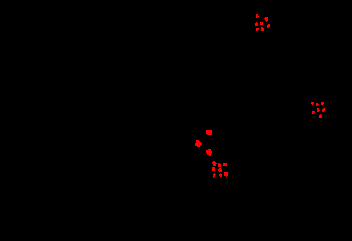Target: (195, 140, 202, 147), (206, 149, 212, 156), (206, 130, 212, 135), (212, 161, 217, 166), (264, 17, 268, 22), (224, 172, 228, 177), (218, 168, 222, 172), (213, 173, 216, 178), (256, 14, 259, 18), (255, 22, 258, 26), (267, 24, 270, 28), (261, 27, 264, 31), (317, 108, 320, 112), (322, 108, 325, 112), (319, 114, 322, 118), (218, 163, 221, 167), (223, 163, 227, 166), (212, 167, 215, 171), (219, 173, 222, 177), (260, 22, 263, 25), (256, 28, 259, 31), (311, 102, 314, 105), (321, 102, 324, 105), (316, 103, 319, 106), (312, 111, 315, 114)
